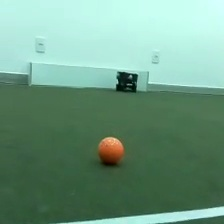ball: (96, 135, 127, 166)
goal: (27, 58, 150, 93)
robot: (115, 69, 139, 95)
